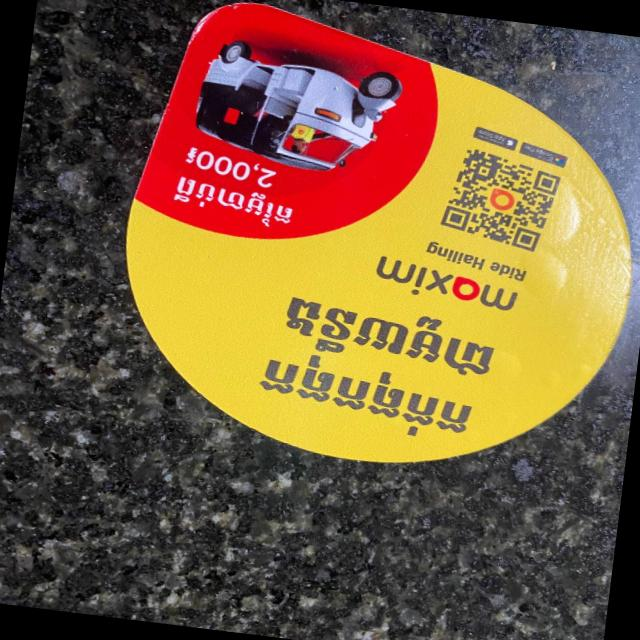633: (170, 138, 288, 195)
Yolov11_80vkh: (277, 279, 510, 392), (249, 343, 482, 454), (162, 164, 307, 240)
